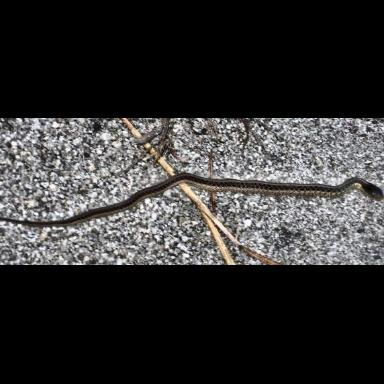snake: (0, 122, 384, 263)
